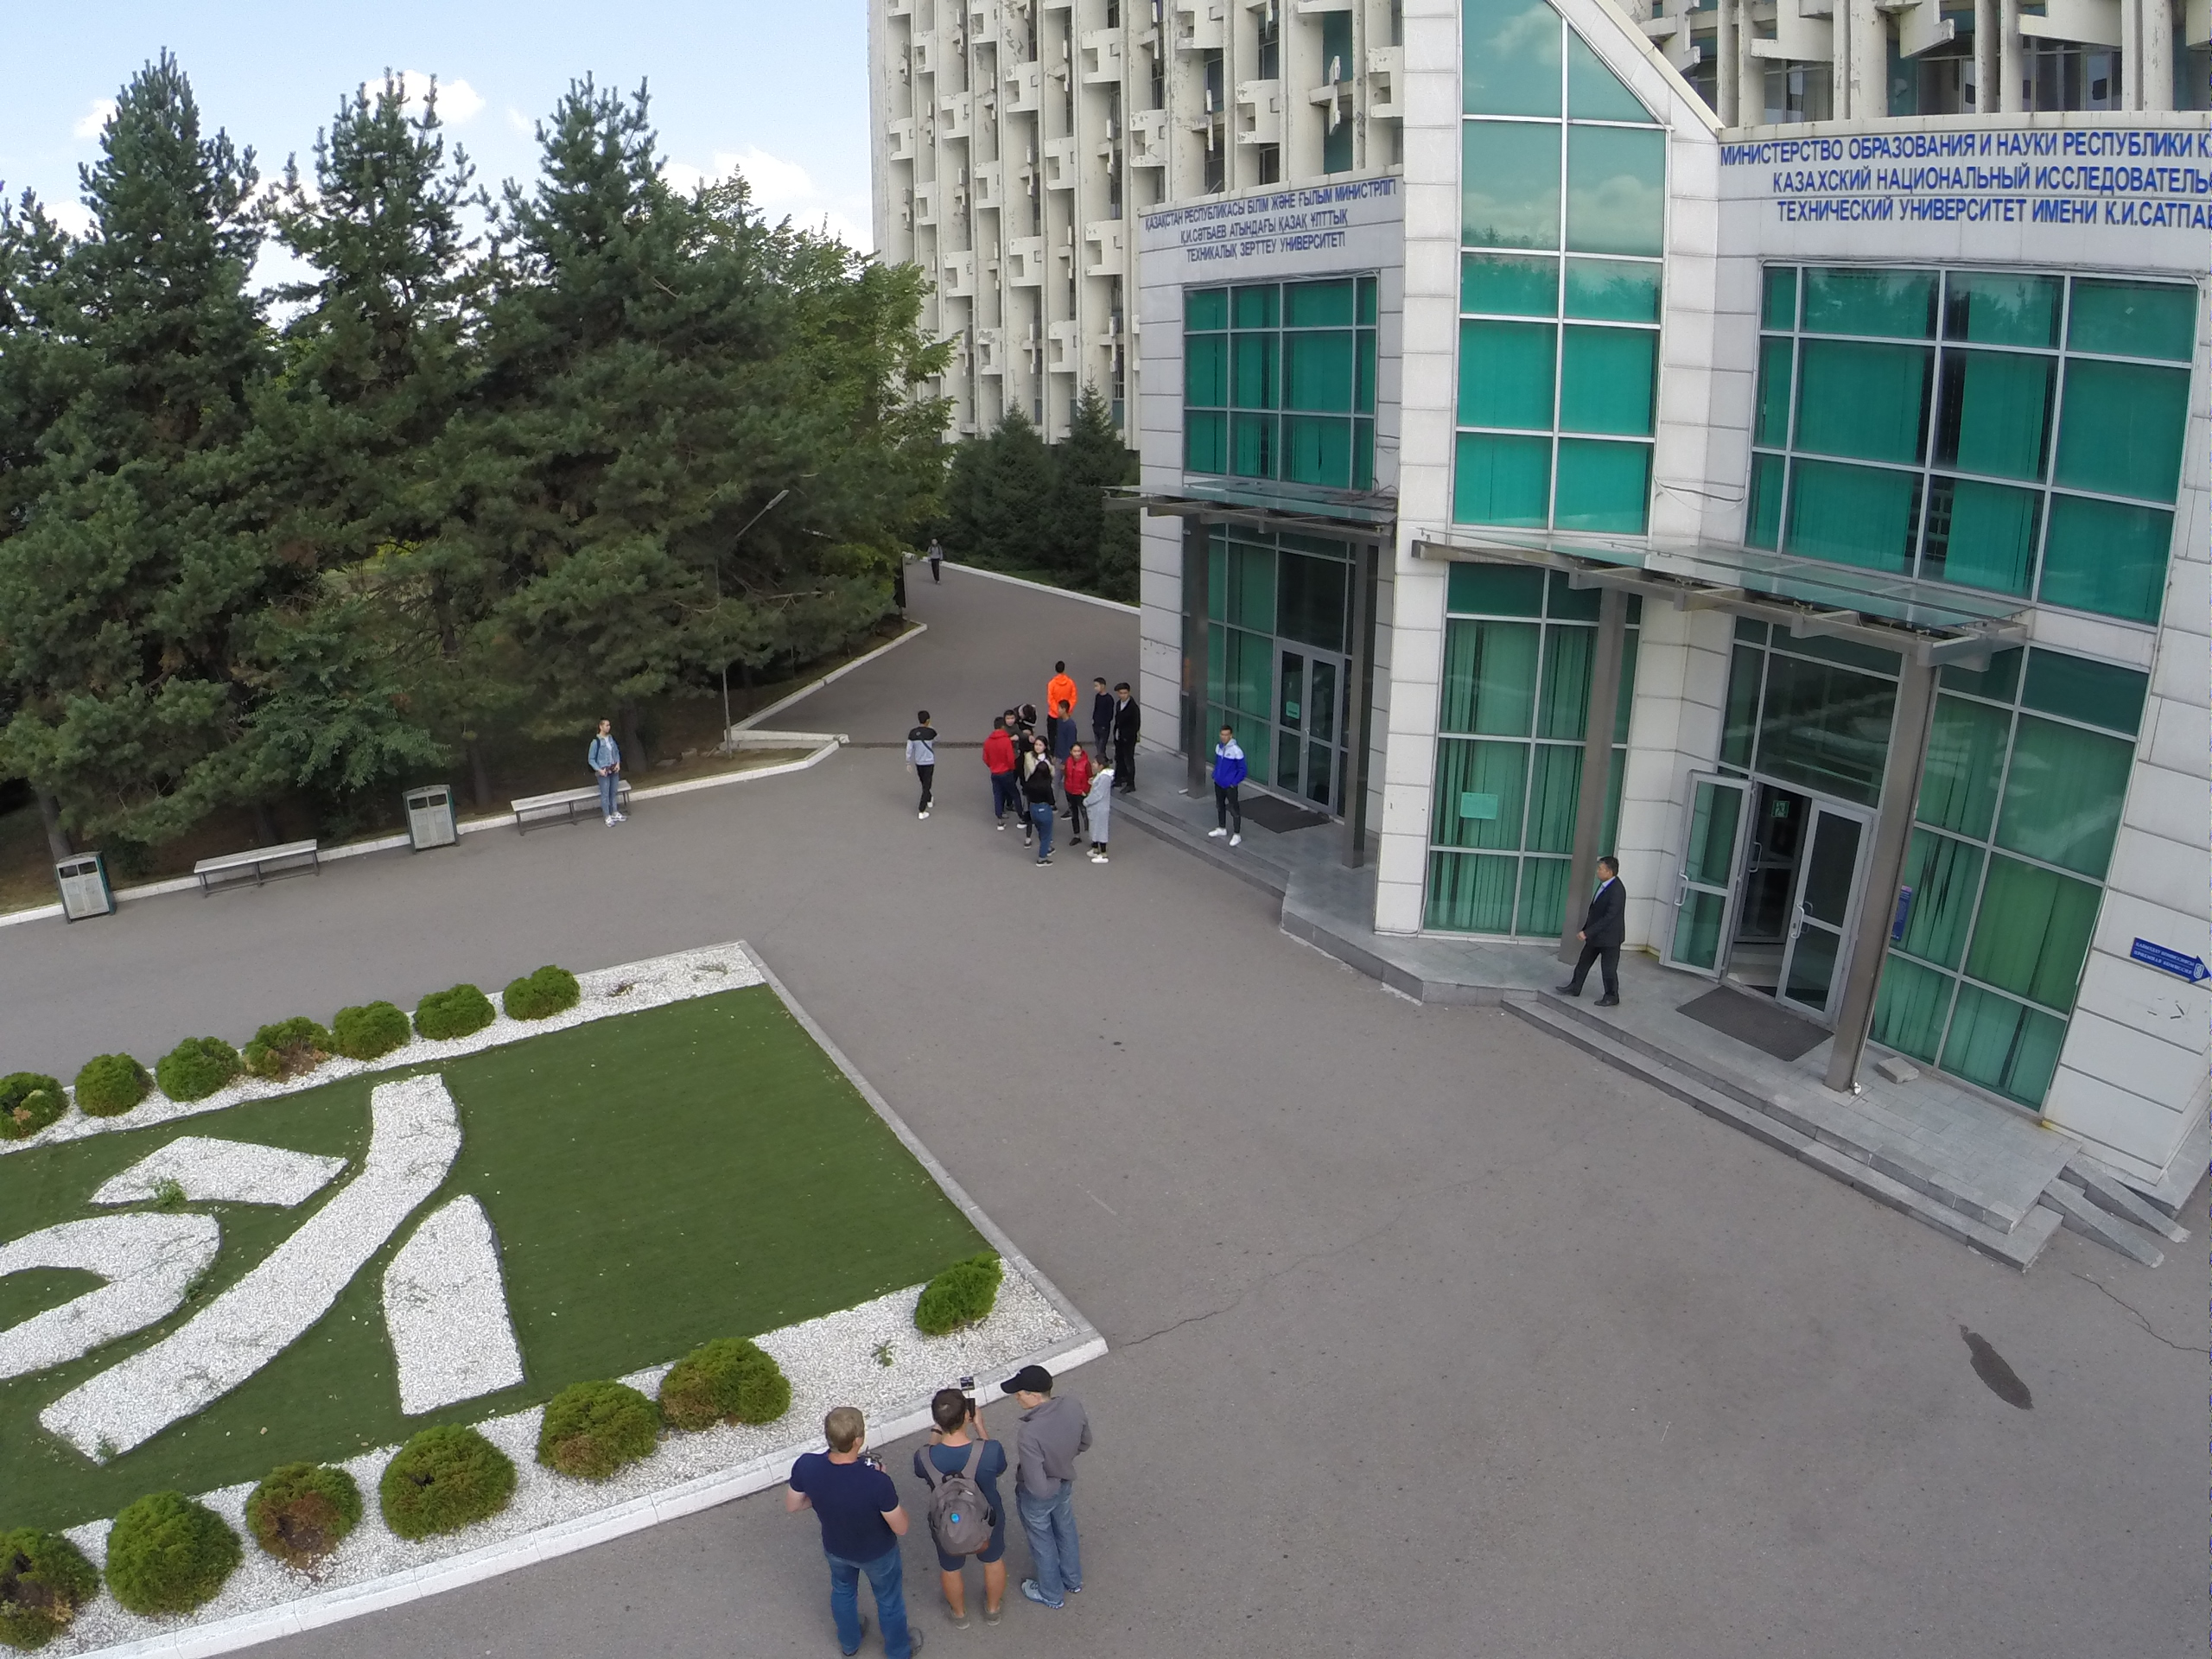person: (787, 1401, 925, 1659), (1001, 1354, 1090, 1611), (924, 1372, 1009, 1631), (1553, 849, 1624, 1008), (585, 716, 632, 830), (1203, 727, 1245, 850), (904, 710, 938, 823), (1081, 756, 1113, 862), (985, 720, 1014, 830), (1114, 684, 1141, 793), (1026, 765, 1054, 863), (1065, 739, 1090, 845), (1091, 675, 1113, 753), (1043, 661, 1076, 704), (1052, 696, 1078, 741), (926, 537, 944, 583)
